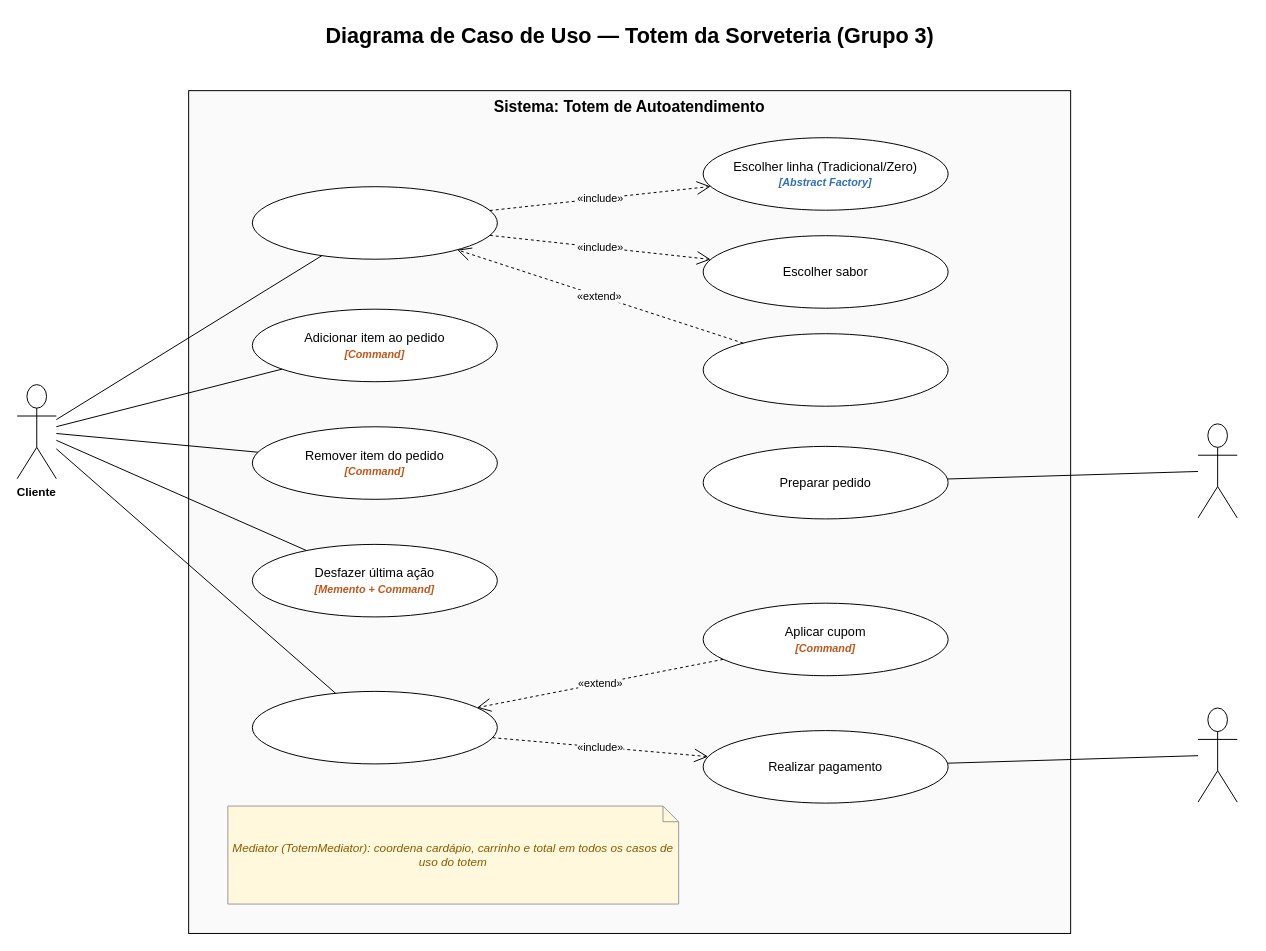
This 1266x951 diagram has some shape labels left out. Here are the shapes that lost their labels. From the top down, the centre of each, then its label:
the point at 374,222: Montar sorvete
the point at 825,369: Adicionar cobertura [Decorator]
the point at 1217,470: Atendente
the point at 374,727: Finalizar pedido
the point at 1217,754: Sistema de Pagamento
